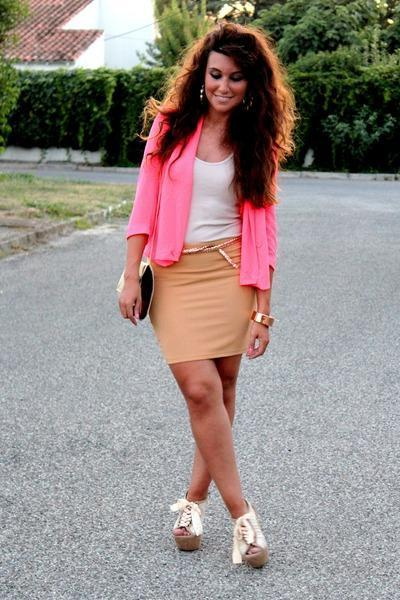jacket: (127, 139, 275, 289)
shirt: (186, 156, 241, 243)
shoe: (169, 492, 268, 574)
skirt: (156, 234, 251, 363)
